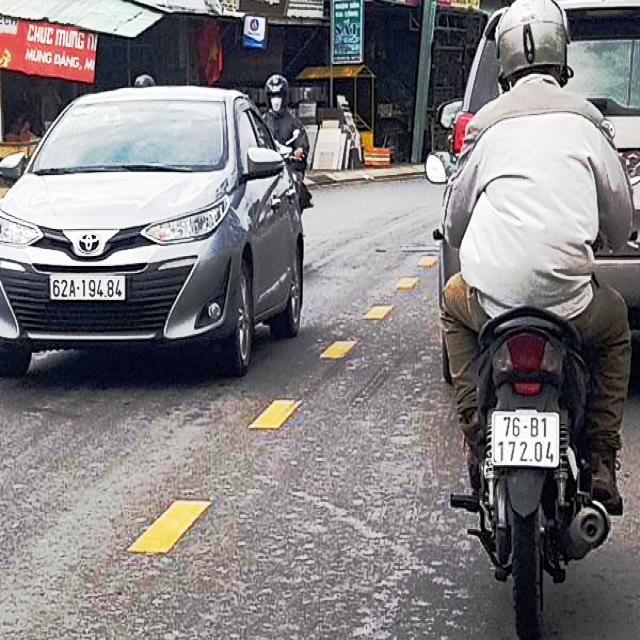license_plate: (493, 413, 559, 466), (52, 273, 127, 301)
